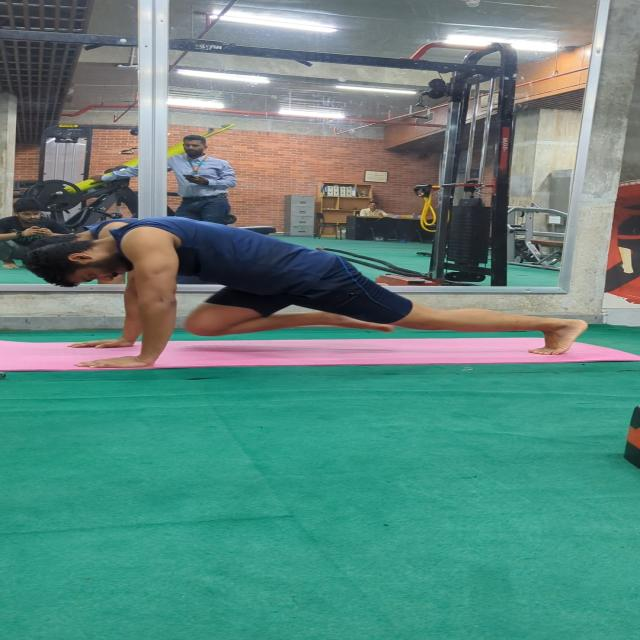Normal_MountainClimbers: (22, 201, 590, 370)
